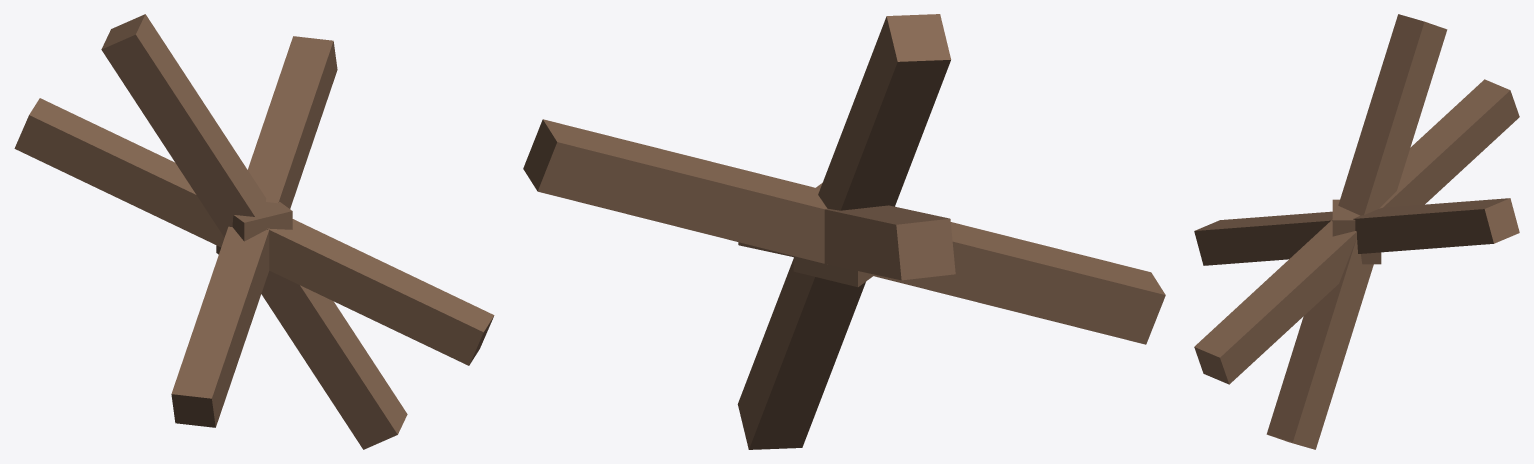
The model's file is hedgehog.glb.
3 renders of one model, left to right at view 1: azimuth 30°, elevation 25°; view 2: azimuth 150°, elevation 25°; view 3: azimuth 270°, elevation 25°, orthographic. The views are drawn at different scales.
Visible parts, largest first — view 1: hedgehog; view 2: hedgehog; view 3: hedgehog.
Boxes of the visible parts, box(x1,y1,x2,y2) form: hedgehog: box(14, 14, 494, 449); hedgehog: box(523, 14, 1165, 449); hedgehog: box(1194, 14, 1519, 449).
Bounding box in the file's own units: 1.07 × 1.31 × 1.07.
